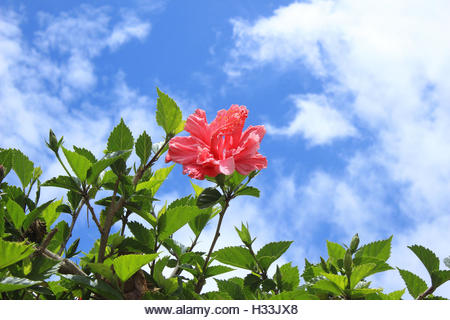Hibiscus: (164, 106, 275, 211), (30, 113, 80, 172)
